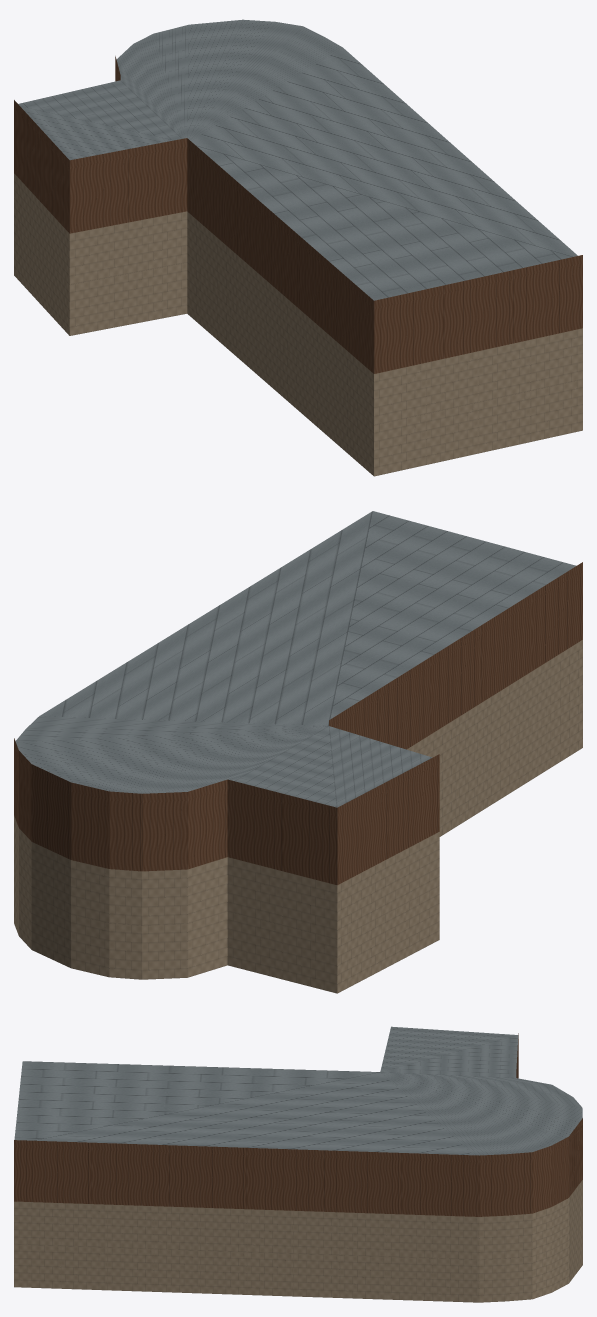
The model's file is core_0003.gltf.
3 views of the same model, one above another, from view 1: azimuth 30°, elevation 25°; view 2: azimuth 150°, elevation 25°; view 3: azimuth 270°, elevation 25° (orthographic). The views are drawn at different scales.
Visible parts, largest first — view 1: core_0003; view 2: core_0003; view 3: core_0003.
Part boxes in pixels (bbox=[...]): core_0003: bbox=[14, 19, 582, 476]; core_0003: bbox=[14, 511, 582, 993]; core_0003: bbox=[14, 1026, 582, 1302].
Bounding box in the file's own units: 15.49 × 7.98 × 27.96.
Materials: 3 (3 with a texture image).
